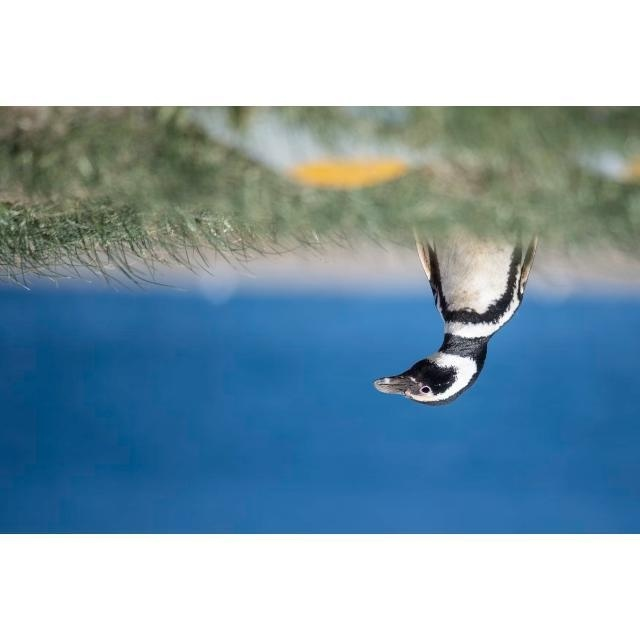penguin: (374, 228, 541, 408)
